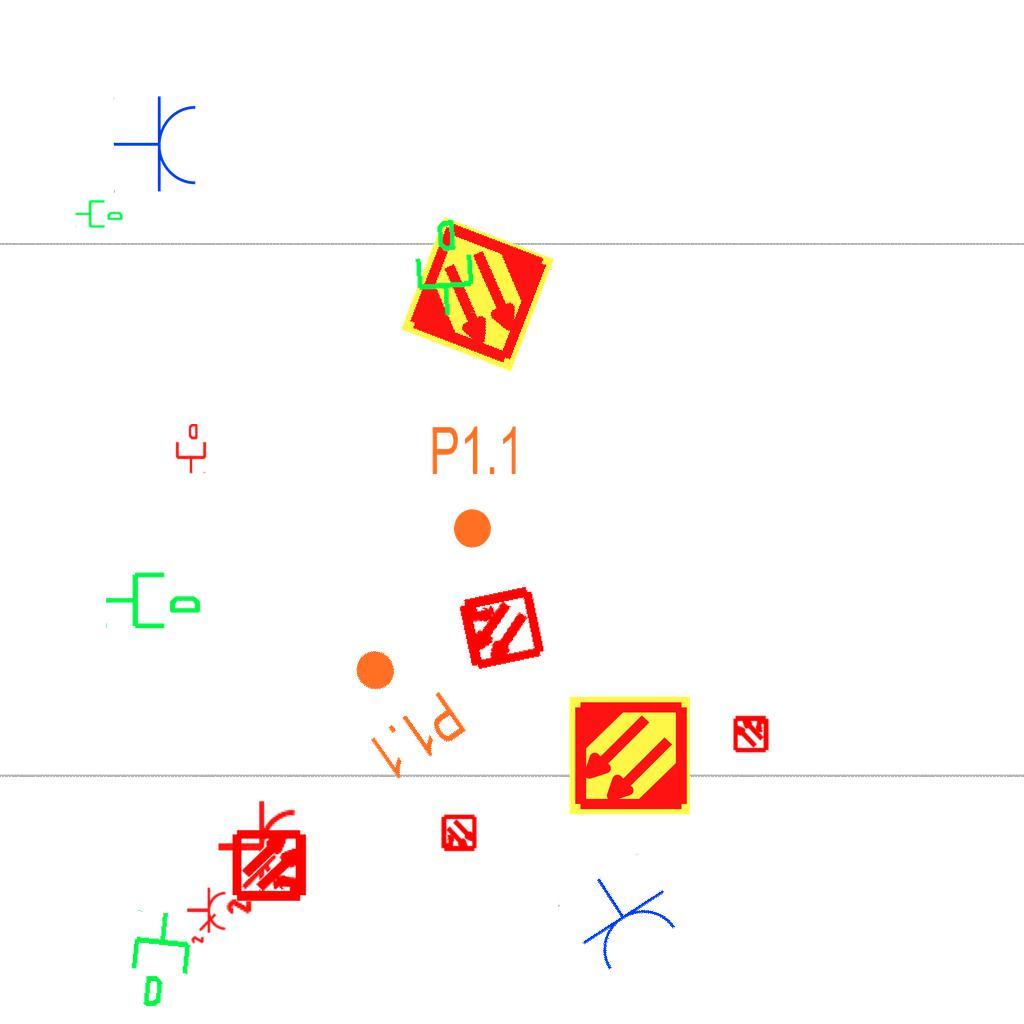ASR_Ansaugrauchmelder: (396, 213, 559, 376), (567, 693, 692, 818)
Datenanschluss_einfach: (122, 906, 203, 1014), (404, 215, 481, 321), (103, 564, 203, 633), (74, 196, 124, 230), (174, 424, 208, 474)
Downlight_LED_Einbauleuchten_Flur_2: (321, 626, 472, 786), (429, 423, 522, 551)
OT_Multisensormelder_(Kombination_RMO_WMD): (432, 561, 567, 696), (215, 809, 328, 922), (723, 705, 779, 761), (431, 806, 487, 862)
Schukosteckdose_einfach: (555, 851, 687, 980), (113, 95, 200, 195)
Schukosteckdose_mehrfach: (212, 796, 300, 917), (184, 885, 228, 945)
